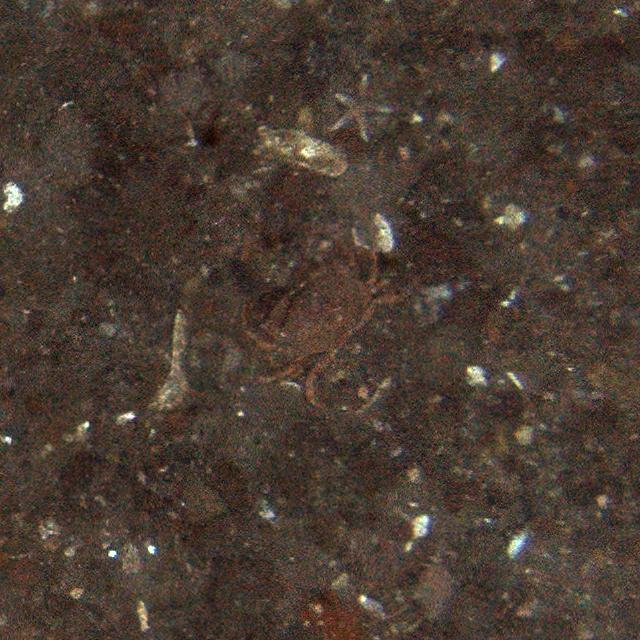crab: (236, 234, 393, 412)
